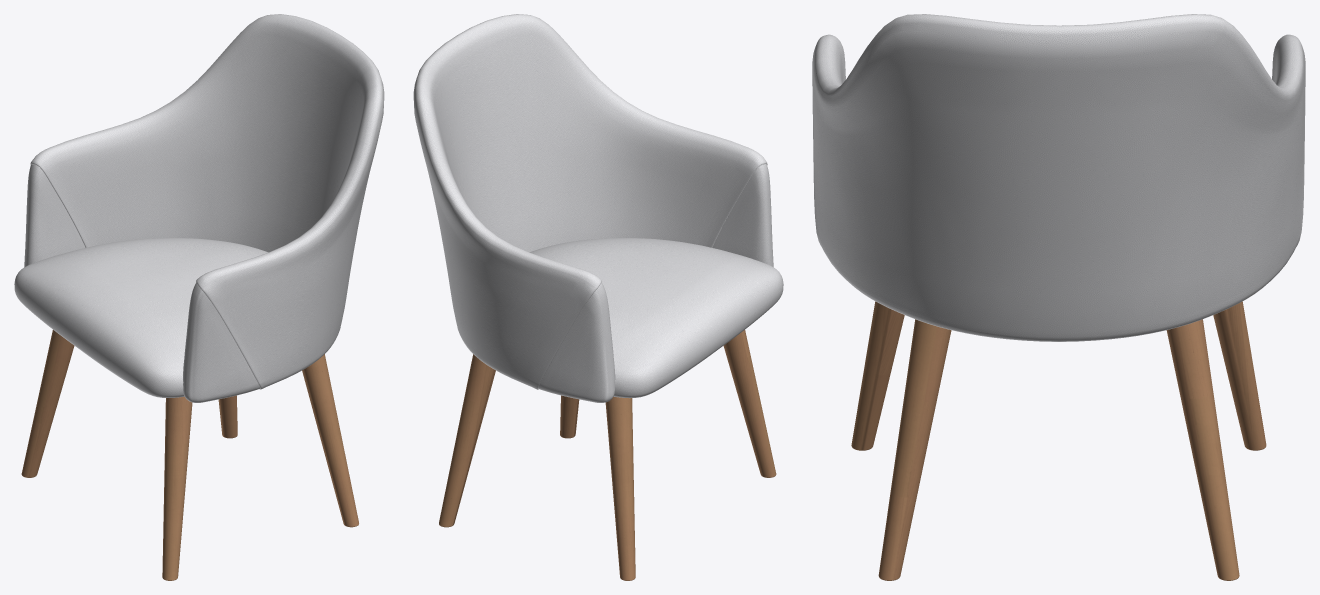
Rendered from Chair_2.fbx.
3 views of the same model, side by side, from view 1: azimuth 30°, elevation 25°; view 2: azimuth 150°, elevation 25°; view 3: azimuth 270°, elevation 25° (orthographic). The views are drawn at different scales.
Visible parts, largest first — view 1: Chair_2; view 2: Chair_2; view 3: Chair_2.
Part boxes in pixels (x1,y1,x2,y2): Chair_2: (14, 14, 384, 580); Chair_2: (413, 14, 783, 580); Chair_2: (812, 14, 1305, 580).
Bounding box in the file's own units: 132 × 189 × 143.
